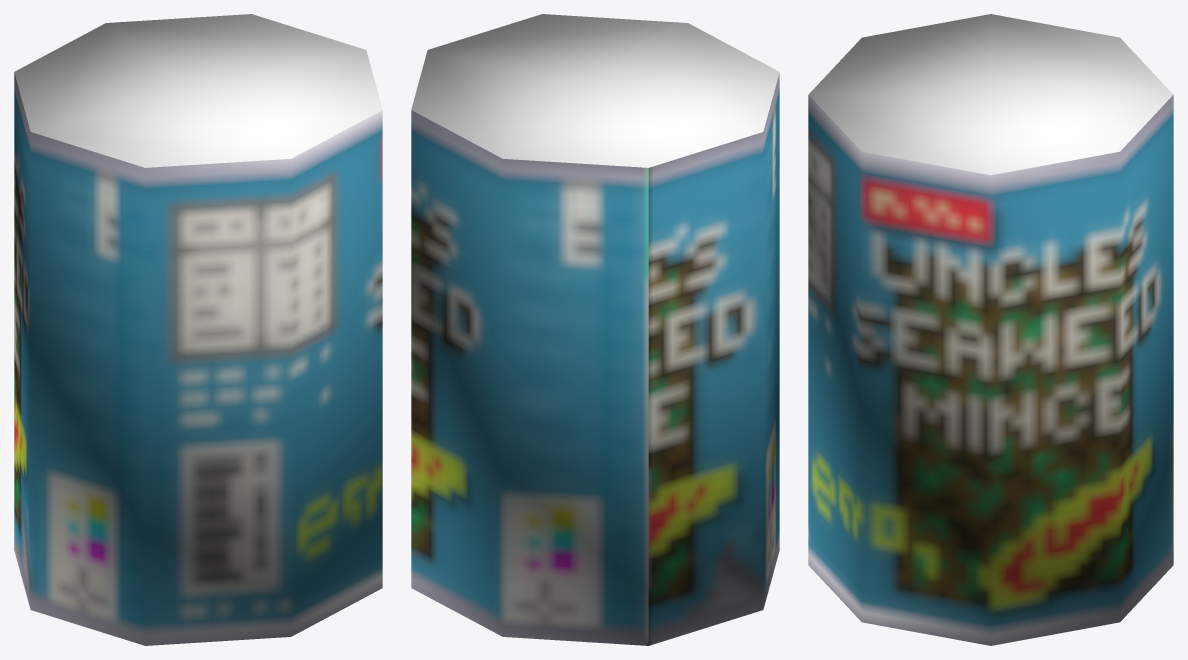
Rendered from packet2.fbx.
3 renders of one model, left to right at view 1: azimuth 30°, elevation 25°; view 2: azimuth 150°, elevation 25°; view 3: azimuth 270°, elevation 25°, orthographic.
Parts seen in each view (by area): view 1: Mesh; view 2: Mesh; view 3: Mesh.
Part boxes in pixels (x1,y1,x2,y2): Mesh: (14,14,382,645); Mesh: (411,14,779,645); Mesh: (808,14,1173,645).
Bounding box in the file's own units: 88.32 × 120 × 84.48.
